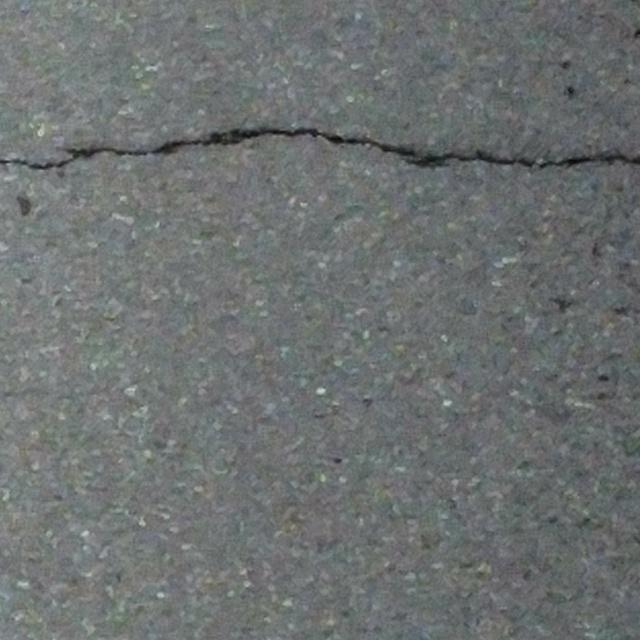TransverseCrack: (2, 125, 640, 171)
